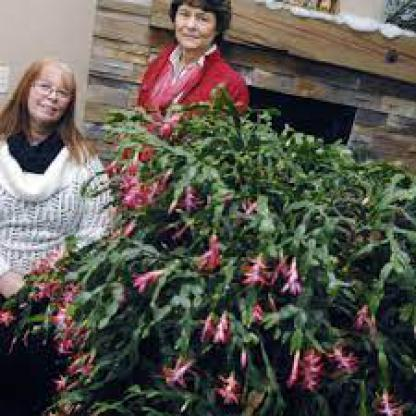Aglonema: (141, 80, 240, 244), (114, 348, 189, 416)
